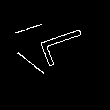L_E: (36, 26, 97, 73)
